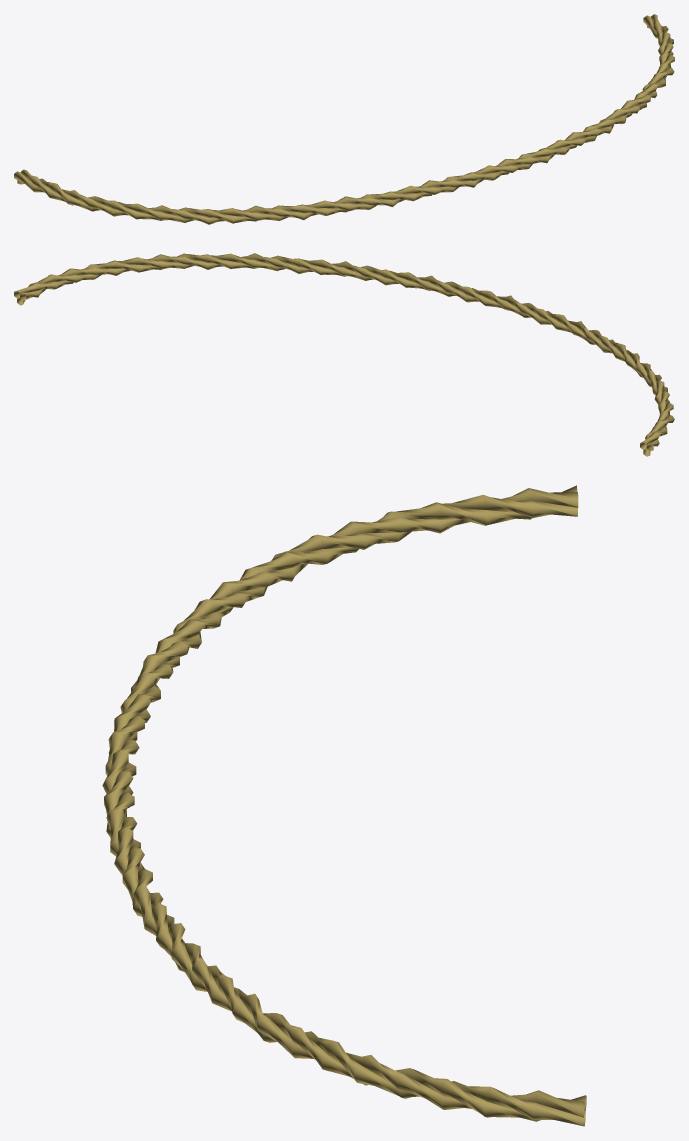
The model's file is CUERDA.fbx.
The picture shows the model from 3 angles, top to bottom: view 1: azimuth 30°, elevation 25°; view 2: azimuth 150°, elevation 25°; view 3: azimuth 270°, elevation 25°; orthographic projection. The views are drawn at different scales.
Parts seen in each view (by area): view 1: Circle; view 2: Circle; view 3: Circle.
Part boxes in pixels (x1=…): Circle: x1=14, y1=14, x2=674, y2=224; Circle: x1=14, y1=253, x2=674, y2=456; Circle: x1=102, y1=485, x2=586, y2=1126.
Size of the model in its own units: 640 by 15.45 by 210.
